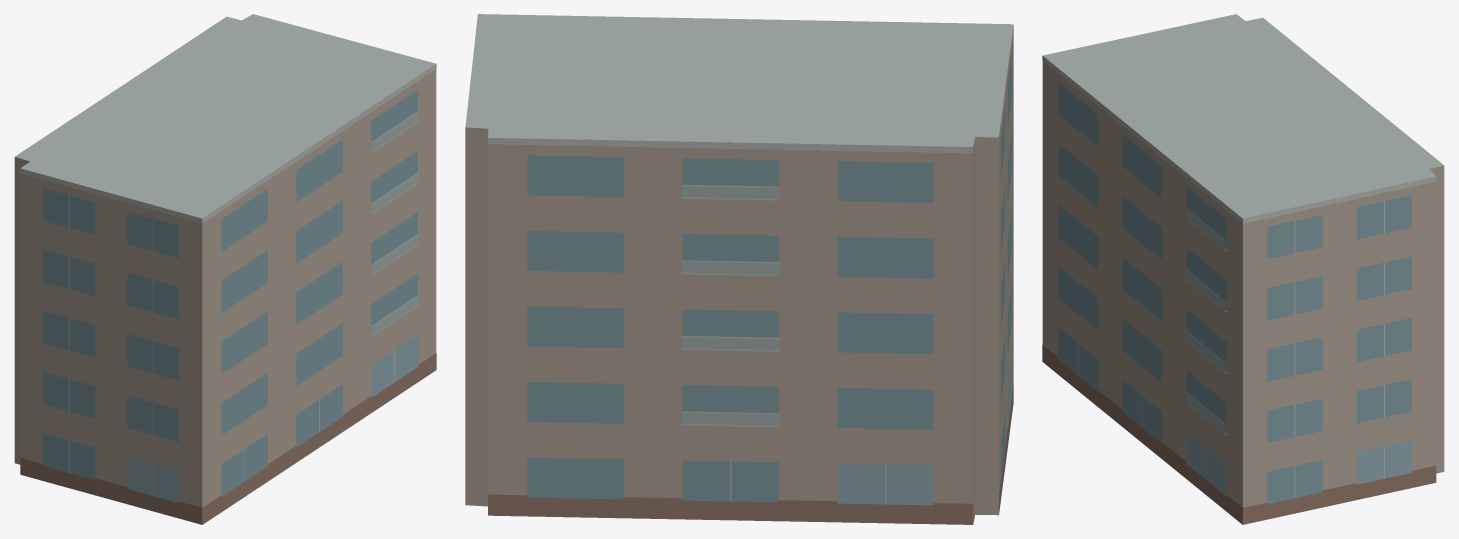
The model's file is survey-upis-32837000.glb.
The picture shows the model from 3 angles, left to right: view 1: azimuth 30°, elevation 25°; view 2: azimuth 150°, elevation 25°; view 3: azimuth 270°, elevation 25°; orthographic projection. The views are drawn at different scales.
Visible parts, largest first — view 1: survey-upis-32837000.tmp; view 2: survey-upis-32837000.tmp; view 3: survey-upis-32837000.tmp.
Part boxes in pixels (left/top/right/bottom): survey-upis-32837000.tmp: left=14, top=14, right=436, bottom=524; survey-upis-32837000.tmp: left=465, top=14, right=1013, bottom=524; survey-upis-32837000.tmp: left=1042, top=14, right=1444, bottom=524.
Size of the model in its own units: 20.78 by 14.5 by 17.25.
